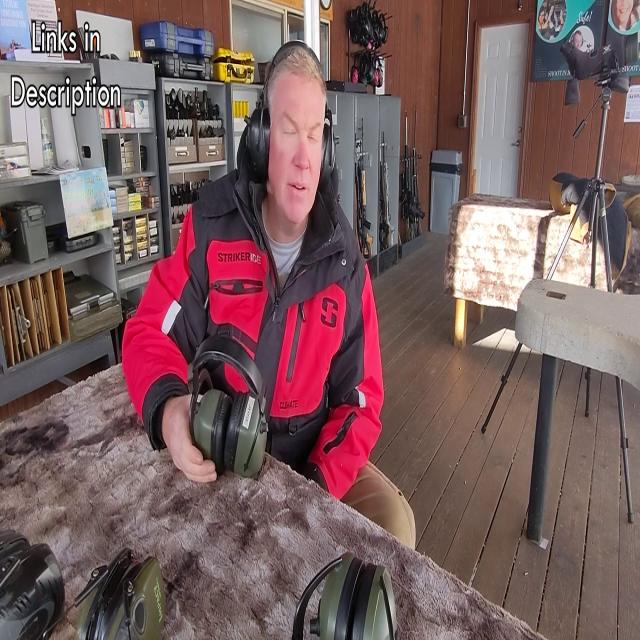earmuff: (242, 105, 274, 179), (318, 118, 341, 193)
